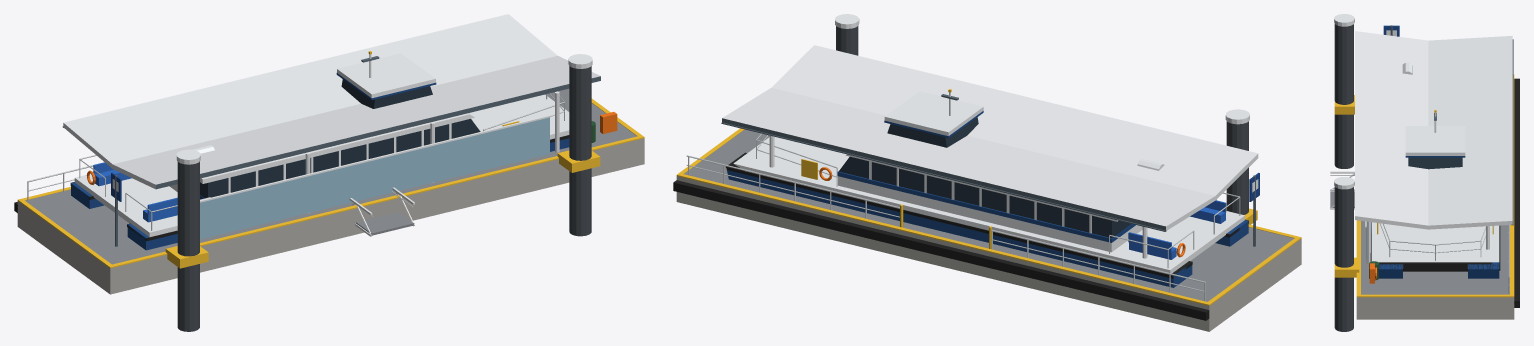
File: citycat.glb
3 views of the same model, side by side, from view 1: azimuth 30°, elevation 25°; view 2: azimuth 150°, elevation 25°; view 3: azimuth 270°, elevation 25° (orthographic). The views are drawn at different scales.
Visible parts, largest first — view 1: Terminal, CityCat, GangwaySpan; view 2: Terminal, CityCat; view 3: Terminal, CityCat, GangwaySpan.
Part boxes in pixels (box(x1,y1,x2,y2)): Terminal: box(14, 14, 644, 331); CityCat: box(70, 51, 569, 250); GangwaySpan: box(349, 187, 414, 236); Terminal: box(673, 14, 1301, 331); CityCat: box(726, 89, 1248, 287); Terminal: box(1334, 14, 1519, 331); CityCat: box(1370, 62, 1500, 278); GangwaySpan: box(1330, 171, 1354, 209).
Size of the model in its own units: 30 by 9.61 by 10.85.
